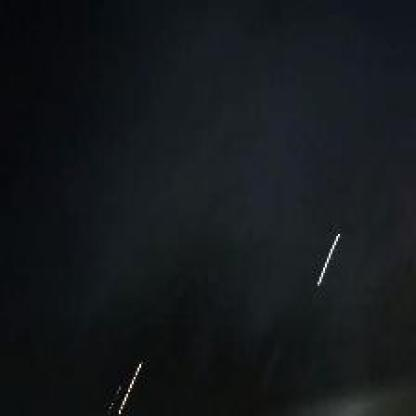other: (298, 218, 346, 296)
